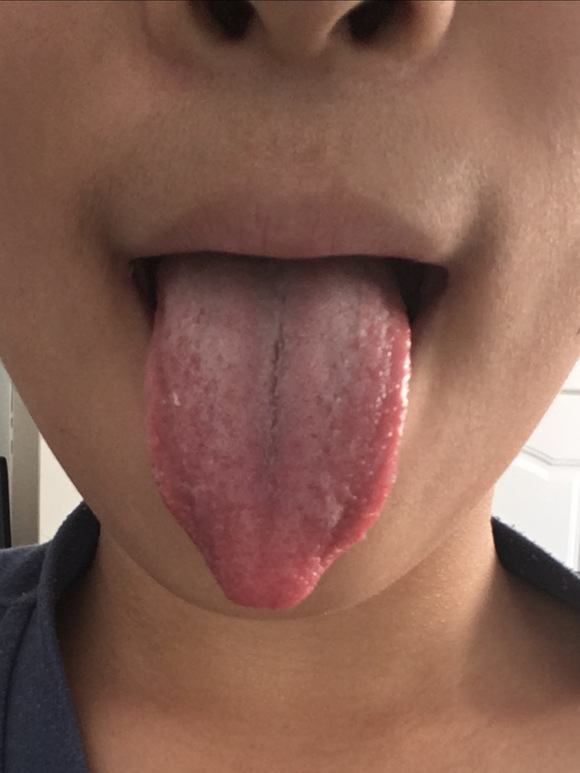baitaishe: (142, 257, 412, 611)
hongshe: (141, 258, 411, 612)
liewenshe: (264, 313, 284, 434)
